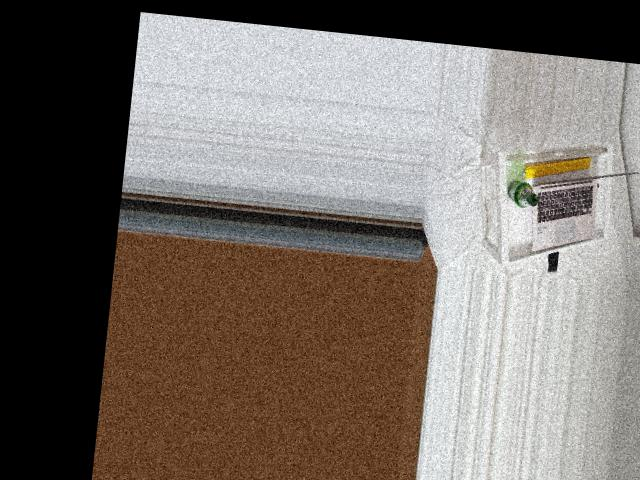beer: (505, 179, 539, 209)
